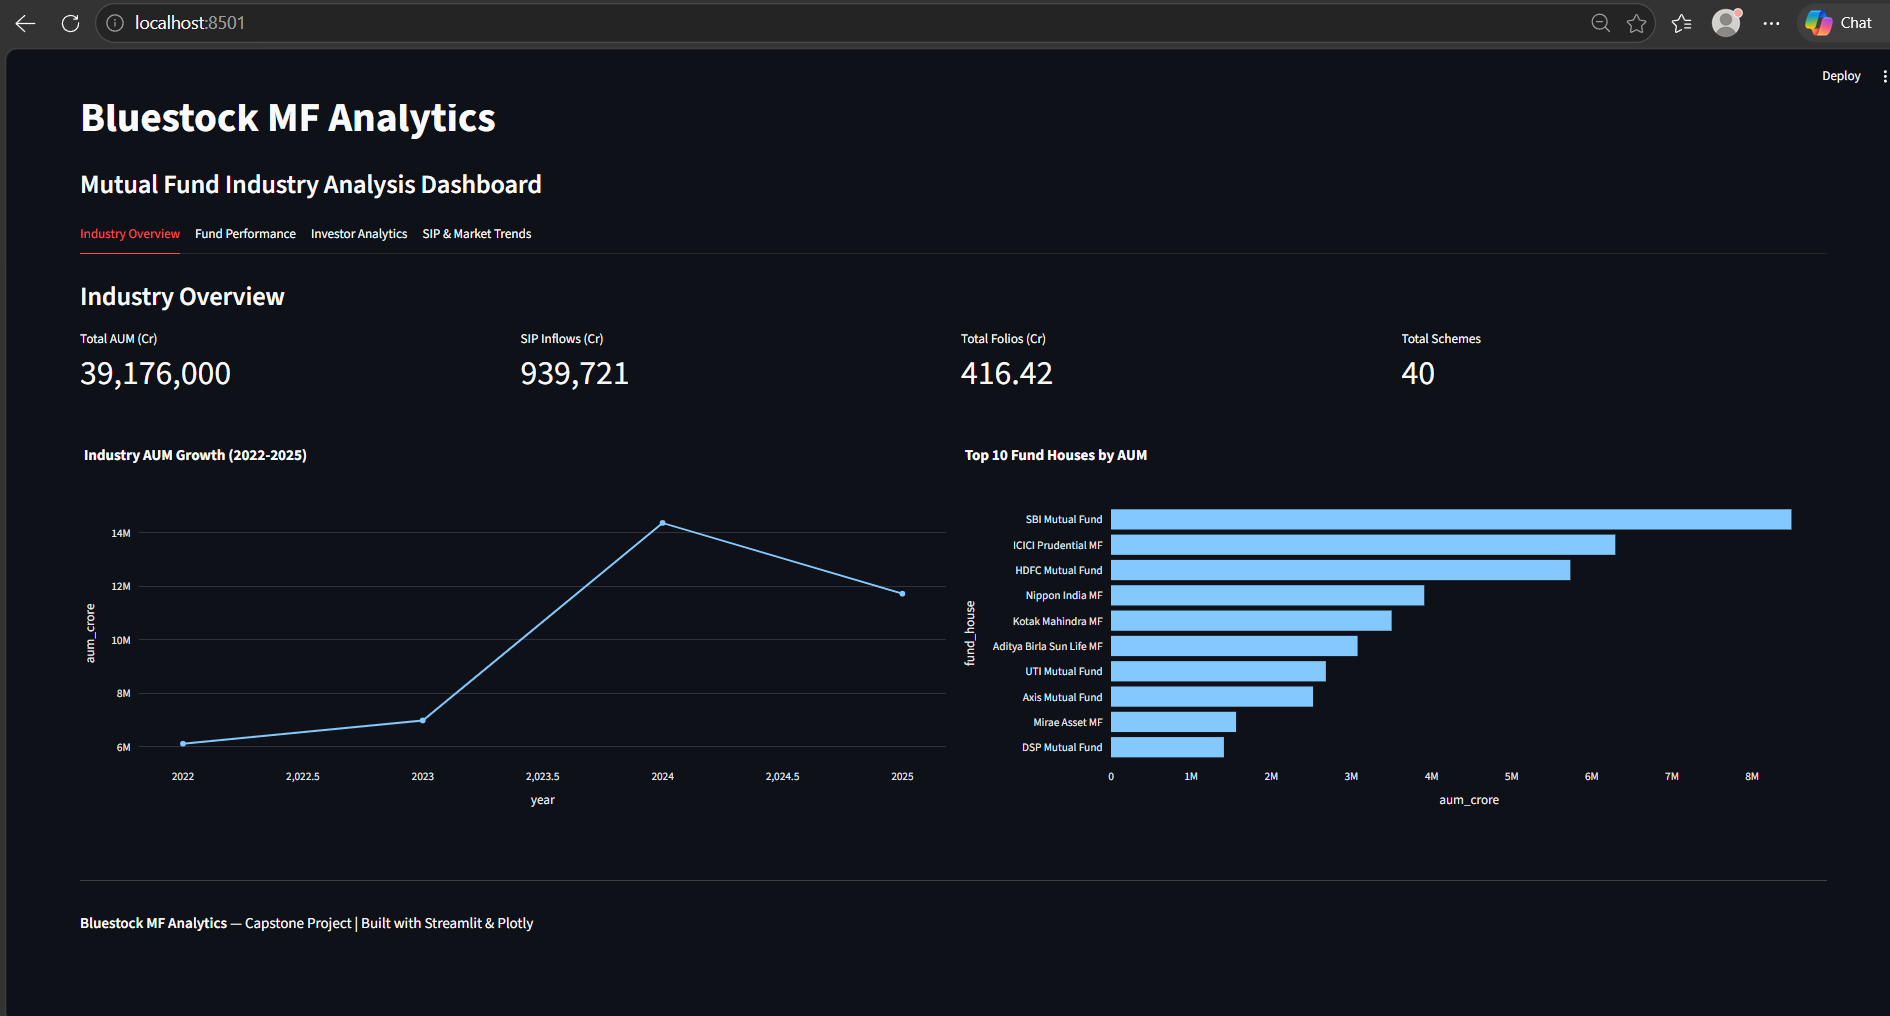

The dashboard page shown, as its layout file describes it:
{"tool":"powerbi","page":{"name":"Industry Overview","canvas":[1280,720],"ordinal":0},"visuals":[{"type":"cardVisual","fields":{"Data":["Sum(clean_aum.aum_crore)"]},"box":[10,108,280,172],"z":0},{"type":"cardVisual","fields":{"Data":["Sum(clean_sip_inflows.sip_inflow_crore)"]},"box":[290,44,280,236],"z":1000},{"type":"cardVisual","fields":{"Data":["Sum(clean_folio_count.total_folios_crore)"]},"box":[640,86,280,194],"z":2000},{"type":"cardVisual","fields":{"Data":["CountNonNull(clean_fund_master.amfi_code)"]},"box":[924,108,280,172],"z":3000},{"type":"lineChart","title":"Industry AUM Growth (2022-2025)","fields":{"Category":["clean_aum.date.Variation.Date Hierarchy.Year","clean_aum.date.Variation.Date Hierarchy.Quarter","clean_aum.date.Variation.Date Hierarchy.Month","clean_aum.date.Variation.Date Hierarchy.Day"],"Y":["Sum(clean_aum.aum_crore)"]},"box":[46.7,280,433.3,396.7],"z":4000},{"type":"clusteredBarChart","title":"Top 10 Fund Houses by AUM","fields":{"Category":["clean_aum.fund_house"],"Y":["Sum(clean_aum.aum_crore)"]},"box":[810,280,446,424],"z":5000},{"type":"image","box":[1204,0,76,86],"z":5001},{"type":"textbox","box":[234,0,830,68],"z":5002}]}

Visuals, with their boxes on the page's 1280x720 design canvas (x1, y1, x2, y2). These are canvas units, not pixel positions in the 1890x1016 screenshot, which may show the page scaled, cropped or inside an application window:
cardVisual - Sum(clean_aum.aum_crore): box=[10, 108, 290, 280]
cardVisual - Sum(clean_sip_inflows.sip_inflow_crore): box=[290, 44, 570, 280]
cardVisual - Sum(clean_folio_count.total_folios_crore): box=[640, 86, 920, 280]
cardVisual - CountNonNull(clean_fund_master.amfi_code): box=[924, 108, 1204, 280]
"Industry AUM Growth (2022-2025)" lineChart: box=[47, 280, 480, 677]
"Top 10 Fund Houses by AUM" clusteredBarChart: box=[810, 280, 1256, 704]
image: box=[1204, 0, 1280, 86]
textbox: box=[234, 0, 1064, 68]
